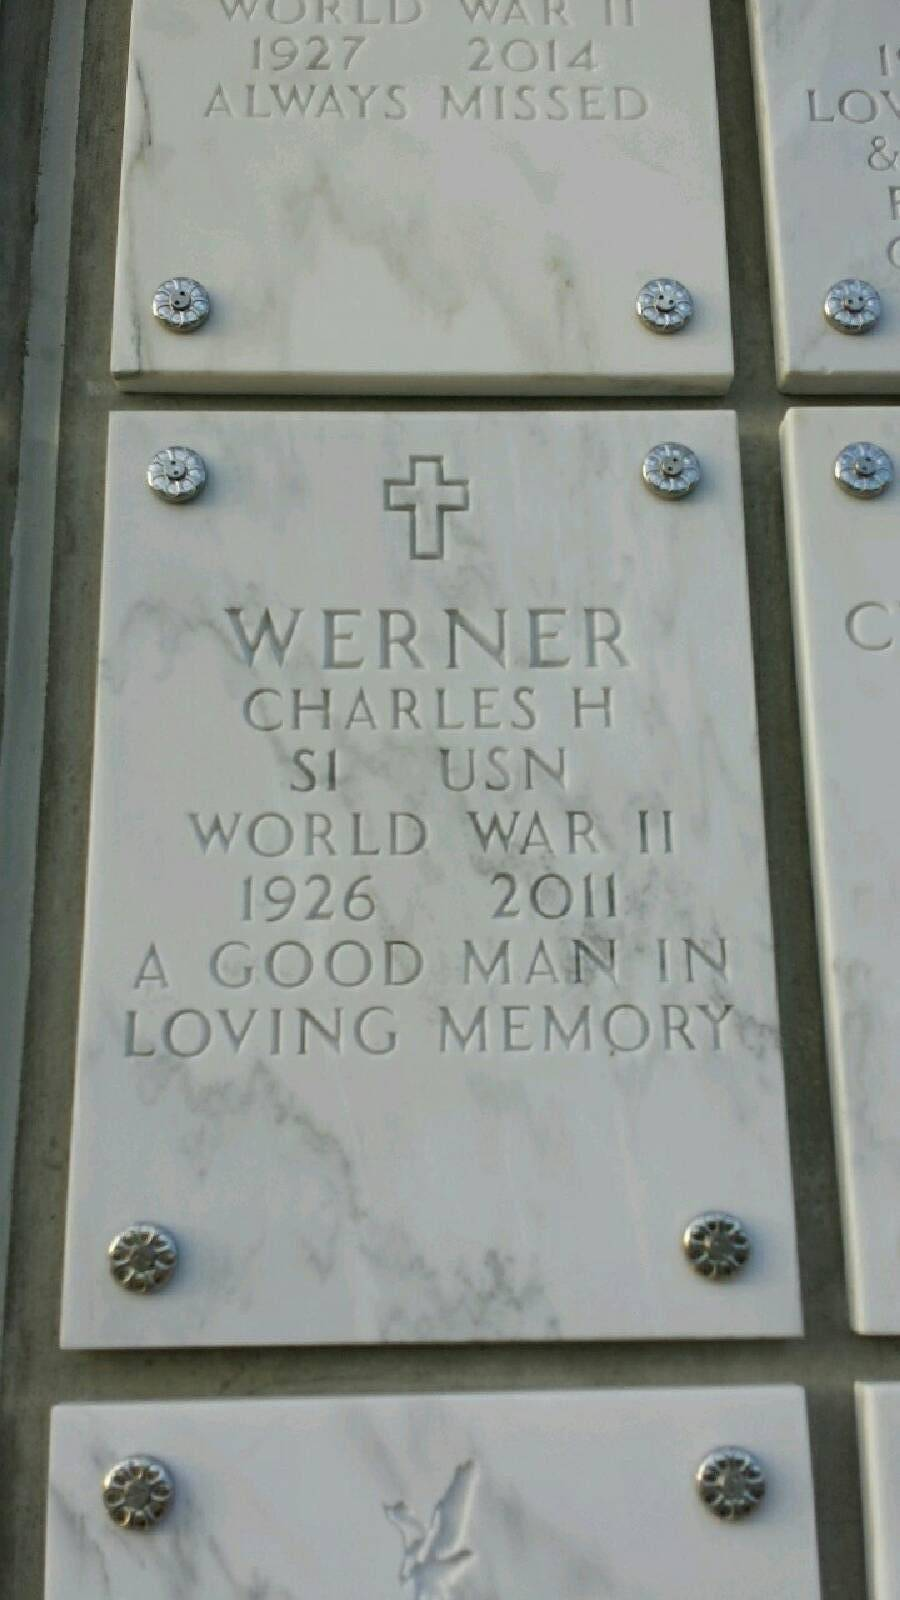plaque: (55, 405, 805, 1347)
